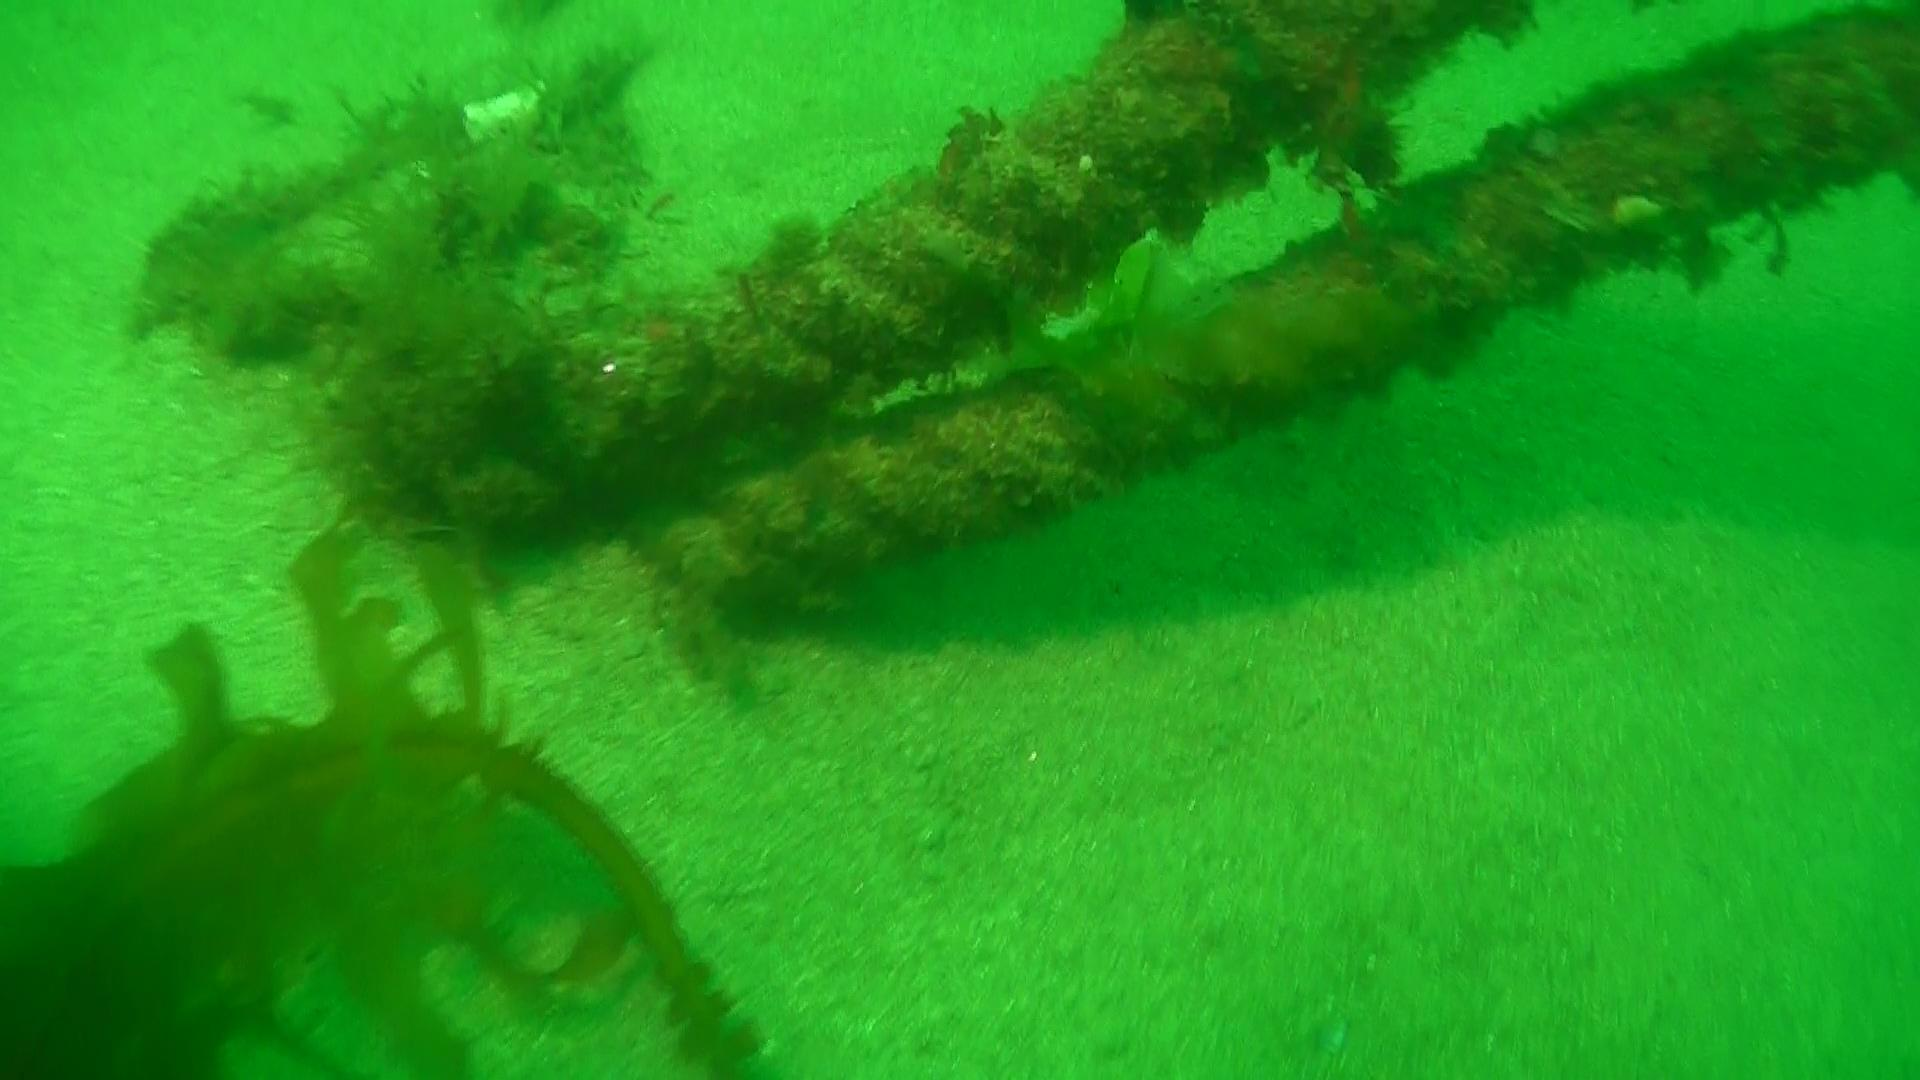bundle of ropes: (495, 1, 1920, 612)
